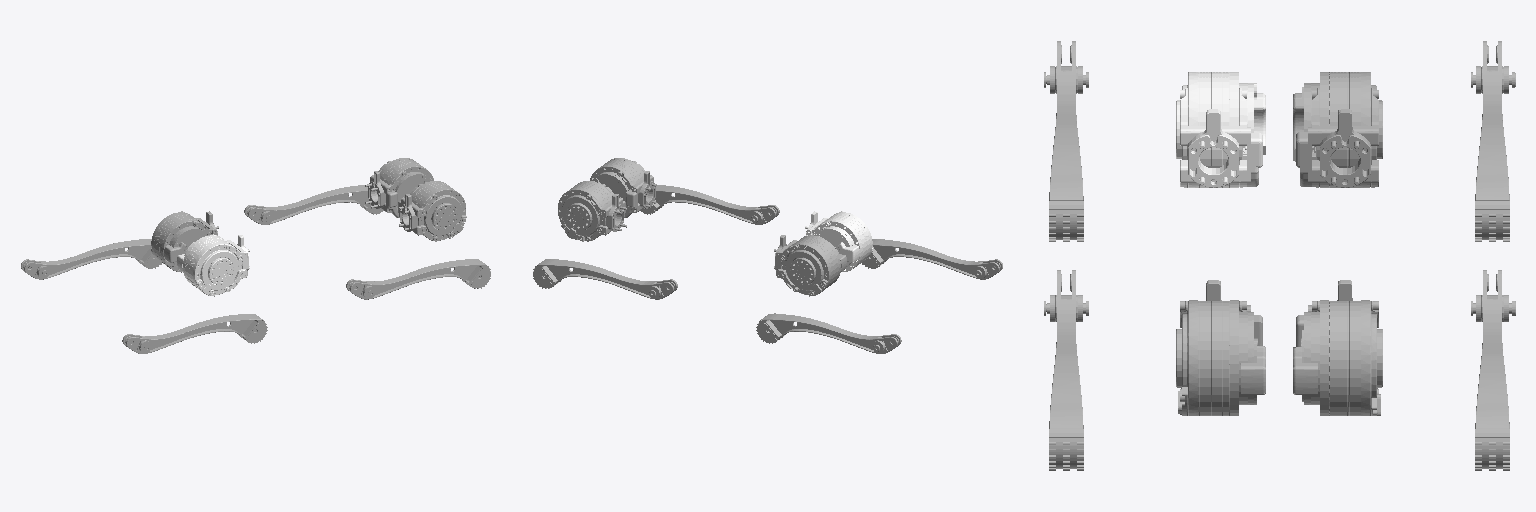
The robot description file, URDF, robot "eqr1":
<?xml version="1.0" encoding="utf-8"?>
<!-- This URDF was automatically created by SolidWorks to URDF Exporter! Originally created by [author] ([email redacted]) 
     Commit Version: 1.6.0-1-g15f4949  Build Version: 1.6.7594.29634
     For more information, please see http://wiki.ros.org/sw_urdf_exporter -->
<robot
  name="eqr1">
  <mujoco>
    <compiler 
    meshdir="../meshes" 
    balanceinertia="true" 
    discardvisual="false" />
  </mujoco>
  <link
    name="base_link">
    <inertial>
      <origin
        xyz="-0.0027442 0.0015218 -0.044521"
        rpy="0 0 0" />
      <mass
        value="6.6344" />
      <inertia
        ixx="0.031183"
        ixy="-9.2E-05"
        ixz="0.000286"
        iyy="0.07013"
        iyz="0.000193"
        izz="0.085346" />
    </inertial>
    <visual>
      <origin
        xyz="0 0 0"
        rpy="0 0 0" />
      <geometry>
        <mesh
          filename="../meshes/base_link.STL" />
      </geometry>
      <material
        name="">
        <color
          rgba="0.75294 0.75294 0.75294 1" />
      </material>
    </visual>
    <collision>
      <origin
        xyz="0 0 0"
        rpy="0 0 0" />
      <geometry>
        <mesh
          filename="../meshes/base_link.STL" />
      </geometry>
    </collision>
  </link>
  <link
    name="fl_leg_l1">
    <inertial>
      <origin
        xyz="0.052069 -0.0025704 -0.00022742"
        rpy="0 0 0" />
      <mass
        value="0.73805" />
      <inertia
        ixx="0.00059"
        ixy="-6E-06"
        ixz="-7E-06"
        iyy="0.000845"
        iyz="-4E-06"
        izz="0.000694" />
    </inertial>
    <visual>
      <origin
        xyz="0 0 0"
        rpy="0 0 0" />
      <geometry>
        <mesh
          filename="../meshes/fl_leg_l1.STL" />
      </geometry>
      <material
        name="">
        <color
          rgba="0.75294 0.75294 0.75294 1" />
      </material>
    </visual>
    <collision>
      <origin
        xyz="0 0 0"
        rpy="0 0 0" />
      <geometry>
        <mesh
          filename="../meshes/fl_leg_l1.STL" />
      </geometry>
    </collision>
  </link>
  <joint
    name="fl_leg_1"
    type="revolute">
    <origin
      xyz="0.149 0.05 -0.045"
      rpy="0 0 0" />
    <parent
      link="base_link" />
    <child
      link="fl_leg_l1" />
    <axis
      xyz="1 0 0" />
    <limit
      lower="-0.837"
      upper="0.837"
      effort="60"
      velocity="20" />
  </joint>
  <link
    name="fl_leg_l2">
    <inertial>
      <origin
        xyz="-0.020267 0.079245 -0.0023193"
        rpy="0 0 0" />
      <mass
        value="1.0843" />
      <inertia
        ixx="0.001282"
        ixy="-0.000736"
        ixz="0.000444"
        iyy="0.003869"
        iyz="-8.7E-05"
        izz="0.004044" />
    </inertial>
    <visual>
      <origin
        xyz="0 0 0"
        rpy="0 0 0" />
      <geometry>
        <mesh
          filename="../meshes/fl_leg_l2.STL" />
      </geometry>
      <material
        name="">
        <color
          rgba="0.75294 0.75294 0.75294 1" />
      </material>
    </visual>
    <collision>
      <origin
        xyz="0 0 0"
        rpy="0 0 0" />
      <geometry>
        <mesh
          filename="../meshes/fl_leg_l2.STL" />
      </geometry>
    </collision>
  </link>
  <joint
    name="fl_leg_2"
    type="revolute">
    <origin
      xyz="0.0565 0 0"
      rpy="0 0 0" />
    <parent
      link="fl_leg_l1" />
    <child
      link="fl_leg_l2" />
    <axis
      xyz="0 1 0" />
    <limit
      lower="-3.49"
      upper="2.042"
      effort="60"
      velocity="20" />
  </joint>
  <link
    name="fl_leg_l3">
    <inertial>
      <origin
        xyz="0.07512 6.424E-05 -0.0031878"
        rpy="0 0 0" />
      <mass
        value="0.14396" />
      <inertia
        ixx="2E-05"
        ixy="-1E-06"
        ixz="-6.2E-05"
        iyy="0.001058"
        iyz="0"
        izz="0.00105" />
    </inertial>
    <visual>
      <origin
        xyz="0 0 0"
        rpy="0 0 0" />
      <geometry>
        <mesh
          filename="../meshes/fl_leg_l3.STL" />
      </geometry>
      <material
        name="">
        <color
          rgba="0.75294 0.75294 0.75294 1" />
      </material>
    </visual>
    <collision>
      <origin
        xyz="0 0 0"
        rpy="0 0 0" />
      <geometry>
        <mesh
          filename="../meshes/fl_leg_l3.STL" />
      </geometry>
    </collision>
  </link>
  <joint
    name="fl_leg_3"
    type="revolute">
    <origin
      xyz="-0.19401 0.112 -0.048585"
      rpy="0 0 0" />
    <parent
      link="fl_leg_l2" />
    <child
      link="fl_leg_l3" />
    <axis
      xyz="0 1 0" />
    <limit
      lower="0"
      upper="1.84"
      effort="60"
      velocity="20" />
  </joint>
  <link
    name="fl_leg_lee">
    <inertial>
      <origin
        xyz="0.0037486 -2.7756E-17 -0.0037586"
        rpy="0 0 0" />
      <mass
        value="0.023688" />
      <inertia
        ixx="4E-06"
        ixy="0"
        ixz="1E-06"
        iyy="3E-06"
        iyz="0"
        izz="4E-06" />
    </inertial>
    <visual>
      <origin
        xyz="0 0 0"
        rpy="0 0 0" />
      <geometry>
        <mesh
          filename="../meshes/fl_leg_ee.STL" />
      </geometry>
      <material
        name="">
        <color
          rgba="0.75294 0.75294 0.75294 1" />
      </material>
    </visual>
    <collision>
      <origin
        xyz="0 0 0"
        rpy="0 0 0" />
      <geometry>
        <mesh
          filename="../meshes/fl_leg_ee.STL" />
      </geometry>
    </collision>
  </link>
  <joint
    name="fl_leg_ee"
    type="fixed">
    <origin
      xyz="0.20148 0 -0.018511"
      rpy="0 0 0" />
    <parent
      link="fl_leg_l3" />
    <child
      link="fl_leg_lee" />
    <axis
      xyz="0 0 0" />
  </joint>
  <link
    name="fr_leg_l1">
    <inertial>
      <origin
        xyz="0.052469 0.002473 -0.00033617"
        rpy="0 0 0" />
      <mass
        value="0.74136" />
      <inertia
        ixx="0.000593"
        ixy="1E-06"
        ixz="-1.1E-05"
        iyy="0.000847"
        iyz="5E-06"
        izz="0.000699" />
    </inertial>
    <visual>
      <origin
        xyz="0 0 0"
        rpy="0 0 0" />
      <geometry>
        <mesh
          filename="../meshes/fr_leg_l1.STL" />
      </geometry>
      <material
        name="">
        <color
          rgba="0.75294 0.75294 0.75294 1" />
      </material>
    </visual>
    <collision>
      <origin
        xyz="0 0 0"
        rpy="0 0 0" />
      <geometry>
        <mesh
          filename="../meshes/fr_leg_l1.STL" />
      </geometry>
    </collision>
  </link>
  <joint
    name="fr_leg_1"
    type="revolute">
    <origin
      xyz="0.149 -0.05 -0.045"
      rpy="0 0 0" />
    <parent
      link="base_link" />
    <child
      link="fr_leg_l1" />
    <axis
      xyz="1 0 0" />
    <limit
      lower="-0.837"
      upper="0.837"
      effort="60"
      velocity="20" />
  </joint>
  <link
    name="fr_leg_l2">
    <inertial>
      <origin
        xyz="-0.023051 -0.080149 -0.0029038"
        rpy="0 0 0" />
      <mass
        value="1.0885" />
      <inertia
        ixx="0.001308"
        ixy="0.000805"
        ixz="0.000572"
        iyy="0.004363"
        iyz="0.000113"
        izz="0.004491" />
    </inertial>
    <visual>
      <origin
        xyz="0 0 0"
        rpy="0 0 0" />
      <geometry>
        <mesh
          filename="../meshes/fr_leg_l2.STL" />
      </geometry>
      <material
        name="">
        <color
          rgba="0.75294 0.75294 0.75294 1" />
      </material>
    </visual>
    <collision>
      <origin
        xyz="0 0 0"
        rpy="0 0 0" />
      <geometry>
        <mesh
          filename="../meshes/fr_leg_l2.STL" />
      </geometry>
    </collision>
  </link>
  <joint
    name="fr_leg_2"
    type="revolute">
    <origin
      xyz="0.0565 0 0"
      rpy="0 0 0" />
    <parent
      link="fr_leg_l1" />
    <child
      link="fr_leg_l2" />
    <axis
      xyz="0 1 0" />
    <limit
      lower="-3.49"
      upper="2.042"
      effort="60"
      velocity="20" />
  </joint>
  <link
    name="fr_leg_l3">
    <inertial>
      <origin
        xyz="0.07512 6.4242E-05 -0.0031878"
        rpy="0 0 0" />
      <mass
        value="0.14396" />
      <inertia
        ixx="2E-05"
        ixy="-1E-06"
        ixz="-6.2E-05"
        iyy="0.001058"
        iyz="0"
        izz="0.00105" />
    </inertial>
    <visual>
      <origin
        xyz="0 0 0"
        rpy="0 0 0" />
      <geometry>
        <mesh
          filename="../meshes/fr_leg_l3.STL" />
      </geometry>
      <material
        name="">
        <color
          rgba="0.75294 0.75294 0.75294 1" />
      </material>
    </visual>
    <collision>
      <origin
        xyz="0 0 0"
        rpy="0 0 0" />
      <geometry>
        <mesh
          filename="../meshes/fr_leg_l3.STL" />
      </geometry>
    </collision>
  </link>
  <joint
    name="fr_leg_3"
    type="revolute">
    <origin
      xyz="-0.19401 -0.112 -0.048585"
      rpy="0 0 0" />
    <parent
      link="fr_leg_l2" />
    <child
      link="fr_leg_l3" />
    <axis
      xyz="0 1 0" />
    <limit
      lower="0"
      upper="1.84"
      effort="60"
      velocity="20" />
  </joint>
  <link
    name="fr_leg_lee">
    <inertial>
      <origin
        xyz="0.0037486 0 -0.0037586"
        rpy="0 0 0" />
      <mass
        value="0.023688" />
      <inertia
        ixx="4E-06"
        ixy="0"
        ixz="1E-06"
        iyy="3E-06"
        iyz="0"
        izz="4E-06" />
    </inertial>
    <visual>
      <origin
        xyz="0 0 0"
        rpy="0 0 0" />
      <geometry>
        <mesh
          filename="../meshes/fr_leg_ee.STL" />
      </geometry>
      <material
        name="">
        <color
          rgba="0.75294 0.75294 0.75294 1" />
      </material>
    </visual>
    <collision>
      <origin
        xyz="0 0 0"
        rpy="0 0 0" />
      <geometry>
        <mesh
          filename="../meshes/fr_leg_ee.STL" />
      </geometry>
    </collision>
  </link>
  <joint
    name="fr_leg_ee"
    type="fixed">
    <origin
      xyz="0.20148 0 -0.018511"
      rpy="0 0 0" />
    <parent
      link="fr_leg_l3" />
    <child
      link="fr_leg_lee" />
    <axis
      xyz="0 0 0" />
  </joint>
  <link
    name="hl_leg_l1">
    <inertial>
      <origin
        xyz="-0.052471 -0.002473 -0.00033617"
        rpy="0 0 0" />
      <mass
        value="0.74136" />
      <inertia
        ixx="0.000593"
        ixy="1E-06"
        ixz="1.1E-05"
        iyy="0.000847"
        iyz="-5E-06"
        izz="0.000699" />
    </inertial>
    <visual>
      <origin
        xyz="0 0 0"
        rpy="0 0 0" />
      <geometry>
        <mesh
          filename="../meshes/hl_leg_l1.STL" />
      </geometry>
      <material
        name="">
        <color
          rgba="0.75294 0.75294 0.75294 1" />
      </material>
    </visual>
    <collision>
      <origin
        xyz="0 0 0"
        rpy="0 0 0" />
      <geometry>
        <mesh
          filename="../meshes/hl_leg_l1.STL" />
      </geometry>
    </collision>
  </link>
  <joint
    name="hl_leg_1"
    type="revolute">
    <origin
      xyz="-0.149 0.05 -0.045"
      rpy="0 0 0" />
    <parent
      link="base_link" />
    <child
      link="hl_leg_l1" />
    <axis
      xyz="1 0 0" />
    <limit
      lower="-0.837"
      upper="0.837"
      effort="60"
      velocity="20" />
  </joint>
  <link
    name="hl_leg_l2">
    <inertial>
      <origin
        xyz="-0.020267 0.079245 -0.0023193"
        rpy="0 0 0" />
      <mass
        value="1.0843" />
      <inertia
        ixx="0.001282"
        ixy="-0.000736"
        ixz="0.000444"
        iyy="0.003869"
        iyz="-8.7E-05"
        izz="0.004044" />
    </inertial>
    <visual>
      <origin
        xyz="0 0 0"
        rpy="0 0 0" />
      <geometry>
        <mesh
          filename="../meshes/hl_leg_l2.STL" />
      </geometry>
      <material
        name="">
        <color
          rgba="0.75294 0.75294 0.75294 1" />
      </material>
    </visual>
    <collision>
      <origin
        xyz="0 0 0"
        rpy="0 0 0" />
      <geometry>
        <mesh
          filename="../meshes/hl_leg_l2.STL" />
      </geometry>
    </collision>
  </link>
  <joint
    name="hl_leg_2"
    type="revolute">
    <origin
      xyz="-0.0565 0 0"
      rpy="0 0 0" />
    <parent
      link="hl_leg_l1" />
    <child
      link="hl_leg_l2" />
    <axis
      xyz="0 1 0" />
    <limit
      lower="-3.49"
      upper="2.042"
      effort="60"
      velocity="20" />
  </joint>
  <link
    name="hl_leg_l3">
    <inertial>
      <origin
        xyz="0.07512 6.424E-05 -0.0031878"
        rpy="0 0 0" />
      <mass
        value="0.14396" />
      <inertia
        ixx="2E-05"
        ixy="-1E-06"
        ixz="-6.2E-05"
        iyy="0.001058"
        iyz="0"
        izz="0.00105" />
    </inertial>
    <visual>
      <origin
        xyz="0 0 0"
        rpy="0 0 0" />
      <geometry>
        <mesh
          filename="../meshes/hl_leg_l3.STL" />
      </geometry>
      <material
        name="">
        <color
          rgba="0.75294 0.75294 0.75294 1" />
      </material>
    </visual>
    <collision>
      <origin
        xyz="0 0 0"
        rpy="0 0 0" />
      <geometry>
        <mesh
          filename="../meshes/hl_leg_l3.STL" />
      </geometry>
    </collision>
  </link>
  <joint
    name="hl_leg_3"
    type="revolute">
    <origin
      xyz="-0.19401 0.112 -0.048585"
      rpy="0 0 0" />
    <parent
      link="hl_leg_l2" />
    <child
      link="hl_leg_l3" />
    <axis
      xyz="0 1 0" />
    <limit
      lower="0"
      upper="1.84"
      effort="60"
      velocity="20" />
  </joint>
  <link
    name="hl_leg_lee">
    <inertial>
      <origin
        xyz="0.0037486 5.5511E-17 -0.0037586"
        rpy="0 0 0" />
      <mass
        value="0.023688" />
      <inertia
        ixx="4E-06"
        ixy="0"
        ixz="1E-06"
        iyy="3E-06"
        iyz="0"
        izz="4E-06" />
    </inertial>
    <visual>
      <origin
        xyz="0 0 0"
        rpy="0 0 0" />
      <geometry>
        <mesh
          filename="../meshes/hl_leg_ee.STL" />
      </geometry>
      <material
        name="">
        <color
          rgba="0.75294 0.75294 0.75294 1" />
      </material>
    </visual>
    <collision>
      <origin
        xyz="0 0 0"
        rpy="0 0 0" />
      <geometry>
        <mesh
          filename="../meshes/hl_leg_ee.STL" />
      </geometry>
    </collision>
  </link>
  <joint
    name="hl_leg_ee"
    type="fixed">
    <origin
      xyz="0.20148 0 -0.018511"
      rpy="0 0 0" />
    <parent
      link="hl_leg_l3" />
    <child
      link="hl_leg_lee" />
    <axis
      xyz="0 0 0" />
  </joint>
  <link
    name="hr_leg_l1">
    <inertial>
      <origin
        xyz="-0.052471 0.002447 -0.000306"
        rpy="0 0 0" />
      <mass
        value="0.74076" />
      <inertia
        ixx="0.000592"
        ixy="-1E-06"
        ixz="1.1E-05"
        iyy="0.000847"
        iyz="5E-06"
        izz="0.000699" />
    </inertial>
    <visual>
      <origin
        xyz="0 0 0"
        rpy="0 0 0" />
      <geometry>
        <mesh
          filename="../meshes/hr_leg_l1.STL" />
      </geometry>
      <material
        name="">
        <color
          rgba="1 1 1 1" />
      </material>
    </visual>
    <collision>
      <origin
        xyz="0 0 0"
        rpy="0 0 0" />
      <geometry>
        <mesh
          filename="../meshes/hr_leg_l1.STL" />
      </geometry>
    </collision>
  </link>
  <joint
    name="hr_leg_1"
    type="revolute">
    <origin
      xyz="-0.149 -0.05 -0.045"
      rpy="0 0 0" />
    <parent
      link="base_link" />
    <child
      link="hr_leg_l1" />
    <axis
      xyz="1 0 0" />
    <limit
      lower="-0.837"
      upper="0.837"
      effort="60"
      velocity="20" />
  </joint>
  <link
    name="hr_leg_l2">
    <inertial>
      <origin
        xyz="-0.023051 -0.080149 -0.0029038"
        rpy="0 0 0" />
      <mass
        value="1.0885" />
      <inertia
        ixx="0.001308"
        ixy="0.000805"
        ixz="0.000572"
        iyy="0.004363"
        iyz="0.000113"
        izz="0.004491" />
    </inertial>
    <visual>
      <origin
        xyz="0 0 0"
        rpy="0 0 0" />
      <geometry>
        <mesh
          filename="../meshes/hr_leg_l2.STL" />
      </geometry>
      <material
        name="">
        <color
          rgba="0.75294 0.75294 0.75294 1" />
      </material>
    </visual>
    <collision>
      <origin
        xyz="0 0 0"
        rpy="0 0 0" />
      <geometry>
        <mesh
          filename="../meshes/hr_leg_l2.STL" />
      </geometry>
    </collision>
  </link>
  <joint
    name="hr_leg_2"
    type="revolute">
    <origin
      xyz="-0.0565 0 0"
      rpy="0 0 0" />
    <parent
      link="hr_leg_l1" />
    <child
      link="hr_leg_l2" />
    <axis
      xyz="0 1 0" />
    <limit
      lower="-3.49"
      upper="2.042"
      effort="60"
      velocity="20" />
  </joint>
  <link
    name="hr_leg_l3">
    <inertial>
      <origin
        xyz="0.07512 6.424E-05 -0.0031878"
        rpy="0 0 0" />
      <mass
        value="0.14396" />
      <inertia
        ixx="2E-05"
        ixy="-1E-06"
        ixz="-6.2E-05"
        iyy="0.001058"
        iyz="0"
        izz="0.00105" />
    </inertial>
    <visual>
      <origin
        xyz="0 0 0"
        rpy="0 0 0" />
      <geometry>
        <mesh
          filename="../meshes/hr_leg_l3.STL" />
      </geometry>
      <material
        name="">
        <color
          rgba="0.75294 0.75294 0.75294 1" />
      </material>
    </visual>
    <collision>
      <origin
        xyz="0 0 0"
        rpy="0 0 0" />
      <geometry>
        <mesh
          filename="../meshes/hr_leg_l3.STL" />
      </geometry>
    </collision>
  </link>
  <joint
    name="hr_leg_3"
    type="revolute">
    <origin
      xyz="-0.19401 -0.112 -0.048585"
      rpy="0 0 0" />
    <parent
      link="hr_leg_l2" />
    <child
      link="hr_leg_l3" />
    <axis
      xyz="0 1 0" />
    <limit
      lower="0"
      upper="1.84"
      effort="60"
      velocity="20" />
  </joint>
  <link
    name="hr_leg_lee">
    <inertial>
      <origin
        xyz="0.0037486 5.5511E-17 -0.0037586"
        rpy="0 0 0" />
      <mass
        value="0.023688" />
      <inertia
        ixx="4E-06"
        ixy="0"
        ixz="1E-06"
        iyy="3E-06"
        iyz="0"
        izz="4E-06" />
    </inertial>
    <visual>
      <origin
        xyz="0 0 0"
        rpy="0 0 0" />
      <geometry>
        <mesh
          filename="../meshes/hr_leg_ee.STL" />
      </geometry>
      <material
        name="">
        <color
          rgba="0.75294 0.75294 0.75294 1" />
      </material>
    </visual>
    <collision>
      <origin
        xyz="0 0 0"
        rpy="0 0 0" />
      <geometry>
        <mesh
          filename="../meshes/hr_leg_ee.STL" />
      </geometry>
    </collision>
  </link>
  <joint
    name="hr_leg_ee"
    type="fixed">
    <origin
      xyz="0.20148 0 -0.018511"
      rpy="0 0 0" />
    <parent
      link="hr_leg_l3" />
    <child
      link="hr_leg_lee" />
    <axis
      xyz="0 0 0" />
  </joint>
</robot>

--- Facts derived from the render (not from the file) ---
The picture shows the robot from 3 angles, left to right: view 1: azimuth 30°, elevation 25°; view 2: azimuth 150°, elevation 25°; view 3: azimuth 270°, elevation 25°; orthographic projection.
Robot: eqr1 — 17 links, 16 joints (12 revolute, 4 fixed); root link base_link; default pose: all joints at 0.
Links seen in each view (by area): view 1: hr_leg_l1, fr_leg_l1, fl_leg_l1, hl_leg_l1, fr_leg_l3, hr_leg_l3, hl_leg_l3, fl_leg_l3; view 2: hl_leg_l1, fl_leg_l1, fr_leg_l1, hr_leg_l1, fl_leg_l3, hl_leg_l3, hr_leg_l3, fr_leg_l3; view 3: fr_leg_l1, fl_leg_l1, hl_leg_l1, hr_leg_l1, hl_leg_l3, hr_leg_l3, fl_leg_l3, fr_leg_l3, fl_leg_lee, fr_leg_lee, hl_leg_lee, hr_leg_lee.
Boxes of the visible links, x1,y1,x2,y2 form: hr_leg_l1: (177,234,249,296); fr_leg_l1: (398,181,466,241); fl_leg_l1: (365,158,433,217); hl_leg_l1: (151,211,218,272); fr_leg_l3: (346,259,486,299); hr_leg_l3: (122,314,262,353); hl_leg_l3: (21,239,152,279); fl_leg_l3: (244,185,370,224); hl_leg_l1: (774,234,846,296); fl_leg_l1: (558,181,626,241); fr_leg_l1: (590,158,656,217); hr_leg_l1: (805,211,872,271); fl_leg_l3: (537,259,677,299); hl_leg_l3: (761,313,901,353); hr_leg_l3: (871,239,1002,279); fr_leg_l3: (653,185,779,224); fr_leg_l1: (1176,280,1265,415); fl_leg_l1: (1293,280,1382,415); hl_leg_l1: (1293,72,1382,187); hr_leg_l1: (1176,72,1265,187); hl_leg_l3: (1471,41,1515,200); hr_leg_l3: (1044,41,1088,200); fl_leg_l3: (1471,270,1515,428); fr_leg_l3: (1044,270,1088,428); fl_leg_lee: (1475,429,1509,470); fr_leg_lee: (1049,429,1083,470); hl_leg_lee: (1475,201,1509,241); hr_leg_lee: (1049,201,1083,241).
Bounding box of the posed robot: 0.6814 × 0.3582 × 0.1325 m (x, y, z).
12 mesh visuals loaded from 17 distinct referenced files (12 binary STL); not drawn: 5 (reference not matched to a file when rendering).
